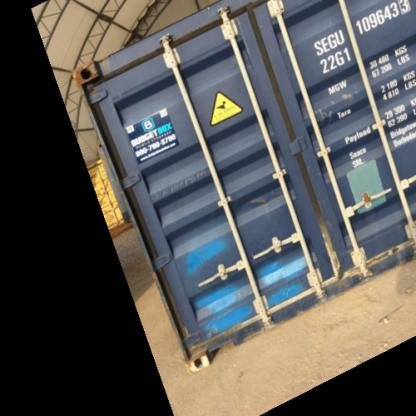Damage: (298, 216, 368, 276)
